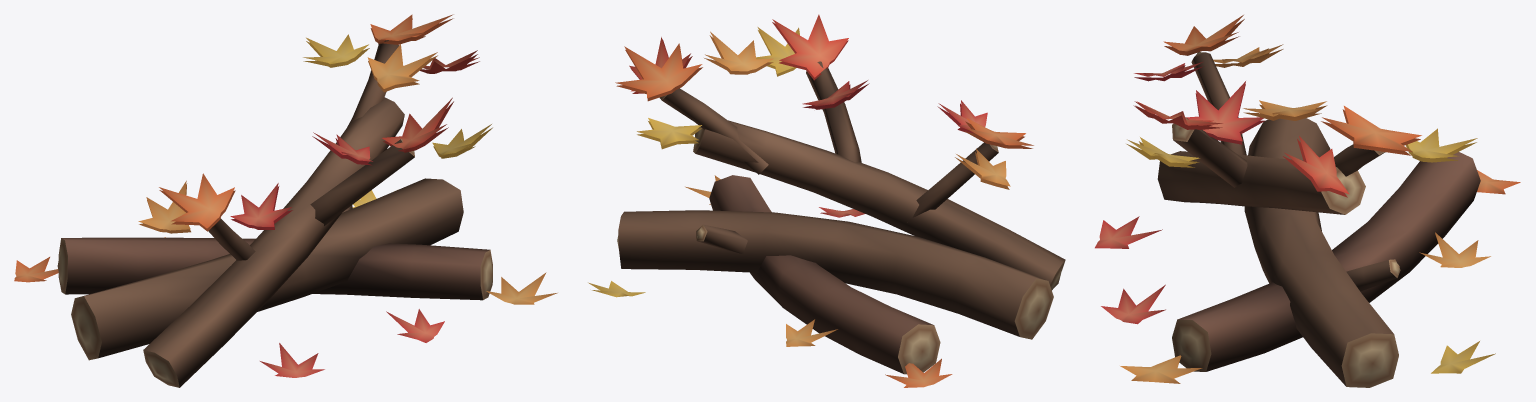
File: prop-scav-branches-full.glb
The picture shows the model from 3 angles, left to right: view 1: azimuth 30°, elevation 25°; view 2: azimuth 150°, elevation 25°; view 3: azimuth 270°, elevation 25°; orthographic projection. The views are drawn at different scales.
Parts seen in each view (by area): view 1: body; view 2: body; view 3: body.
Boxes of the visible parts, bbox=[...] form: body: bbox=[14, 14, 557, 387]; body: bbox=[588, 14, 1065, 387]; body: bbox=[1095, 15, 1520, 387].
Bounding box in the file's own units: 1.21 × 0.6465 × 0.9557.
